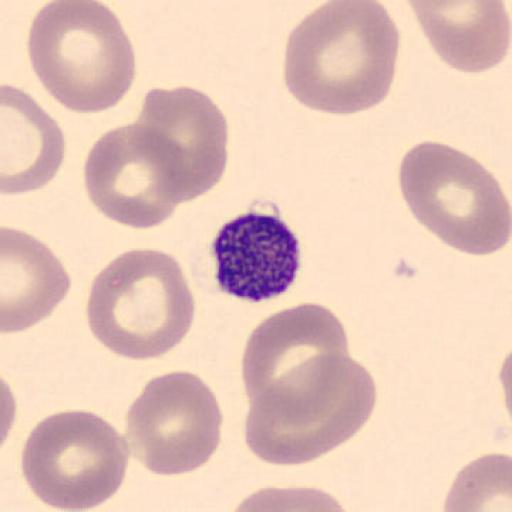Platelet: (208, 207, 305, 305)
RBC: (242, 350, 377, 467), (282, 0, 400, 116), (398, 141, 512, 257), (84, 246, 196, 362), (240, 302, 353, 416), (26, 0, 136, 116), (134, 81, 229, 204), (20, 407, 131, 512), (82, 122, 186, 232), (124, 368, 224, 478), (243, 385, 339, 467), (405, 1, 512, 74), (1, 81, 67, 197), (2, 225, 72, 334), (442, 451, 512, 512), (226, 484, 360, 512), (0, 372, 18, 451)
